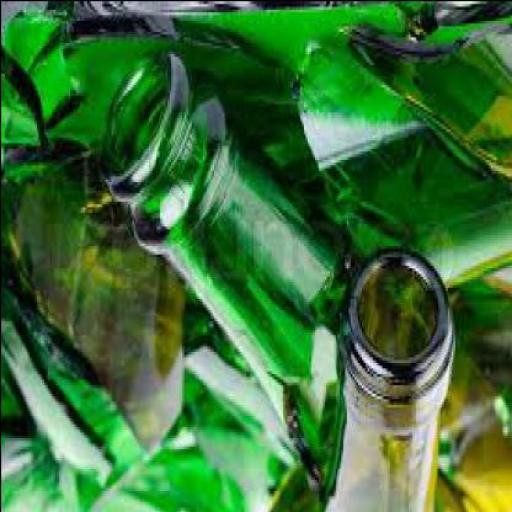glass: (1, 2, 511, 511), (105, 58, 357, 509), (2, 148, 194, 456), (47, 3, 320, 187), (325, 252, 458, 511), (326, 147, 511, 294), (352, 17, 512, 184), (2, 312, 110, 500), (294, 42, 430, 176), (187, 323, 303, 476), (436, 280, 510, 510), (112, 426, 252, 511), (2, 3, 74, 123), (2, 431, 98, 511), (1, 50, 47, 159), (406, 2, 499, 44), (432, 472, 478, 510)
